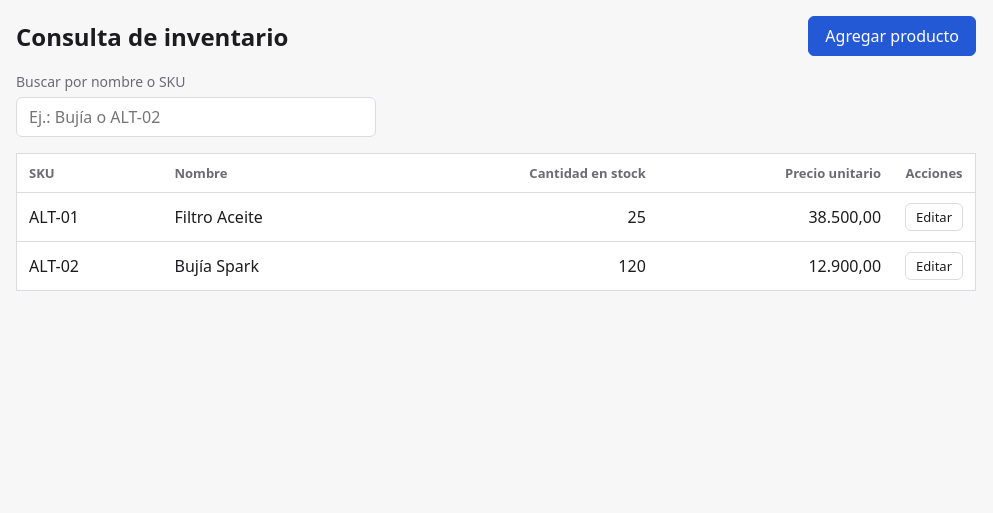
Test case: App › edición de producto › solo hay un formulario abierto: Editar cierra el alta y Agregar producto cierra la edición
Click the button "Agregar producto": (892, 36) x1=808 y1=16 x2=976 y2=56
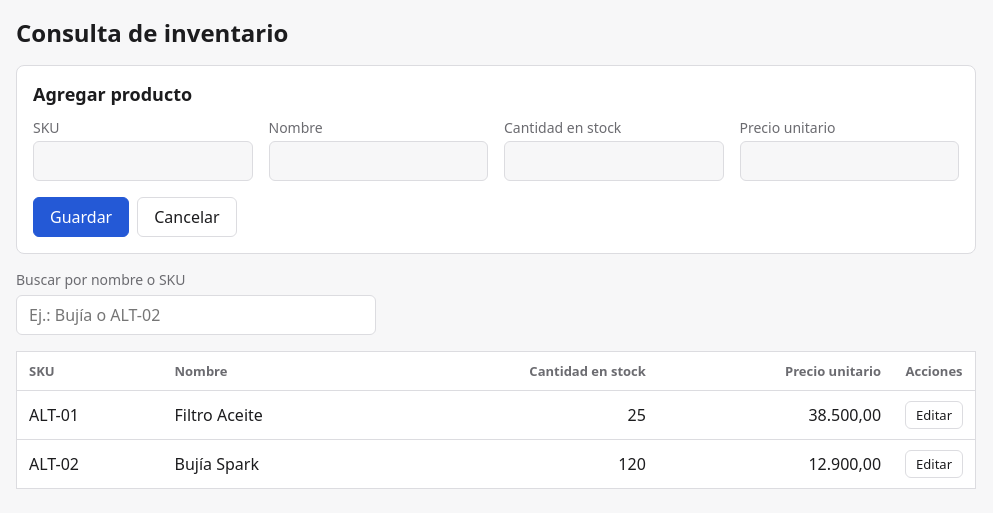
Expected: the element "Agregar producto" is shown, x1=16 y1=65 x2=976 y2=254
Click the button with aria-label "Editar Filtro Aceite": (934, 415) x1=905 y1=401 x2=963 y2=429
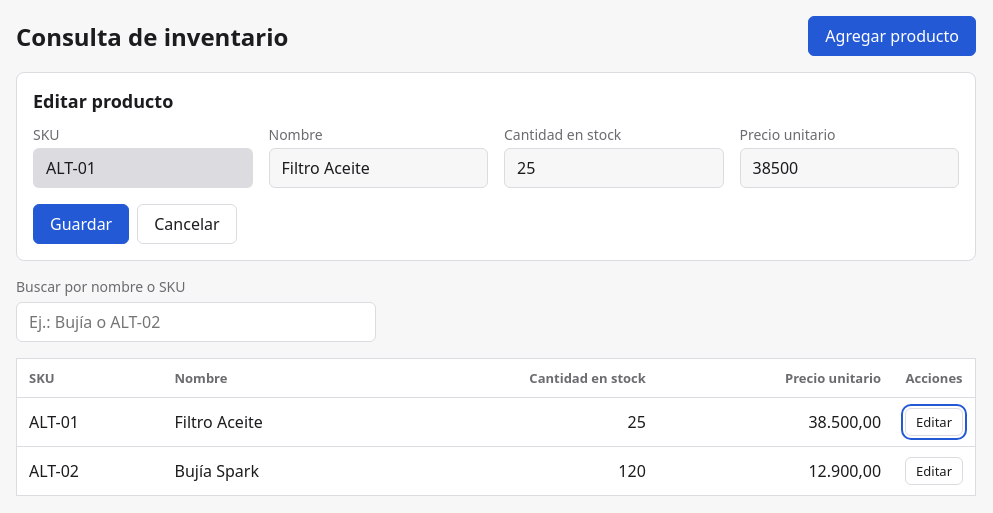
Expected: the element "Editar producto" is shown, x1=16 y1=72 x2=976 y2=261
Expected: the field labelled "Nombre" holds "Filtro Aceite", x1=268 y1=148 x2=488 y2=188
Click the button with aria-label "Editar Bujía Spark": (934, 471) x1=905 y1=457 x2=963 y2=485
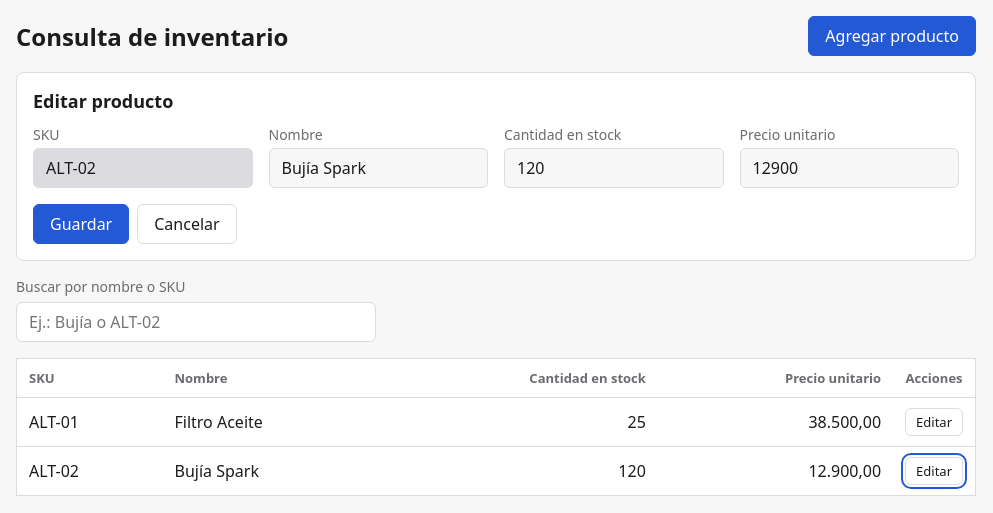
Expected: the field labelled "Nombre" holds "Bujía Spark", x1=268 y1=148 x2=488 y2=188
Click the button "Agregar producto": (892, 36) x1=808 y1=16 x2=976 y2=56
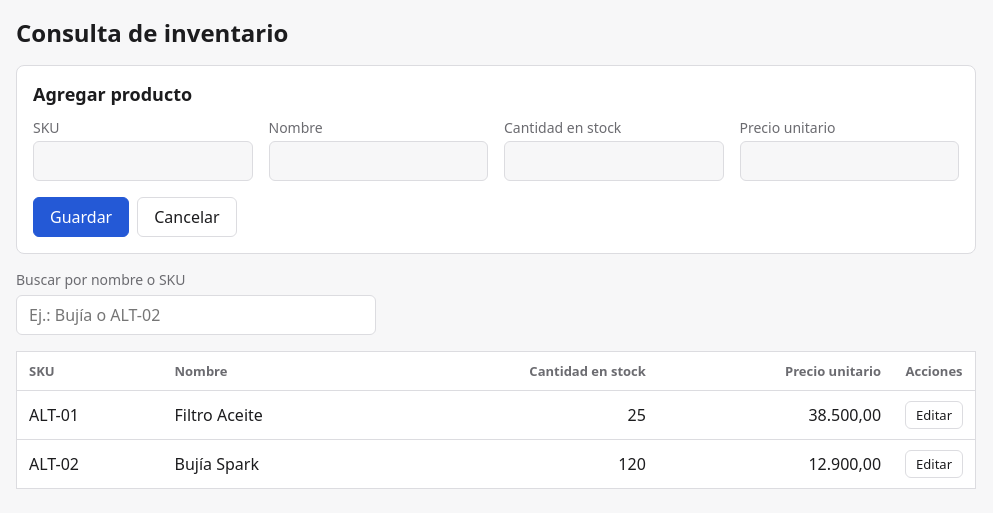
Expected: the heading "Editar producto" is gone
Expected: the element "Agregar producto" is shown, x1=16 y1=65 x2=976 y2=254
Expected: the field labelled "SKU" is empty, x1=33 y1=141 x2=252 y2=181
